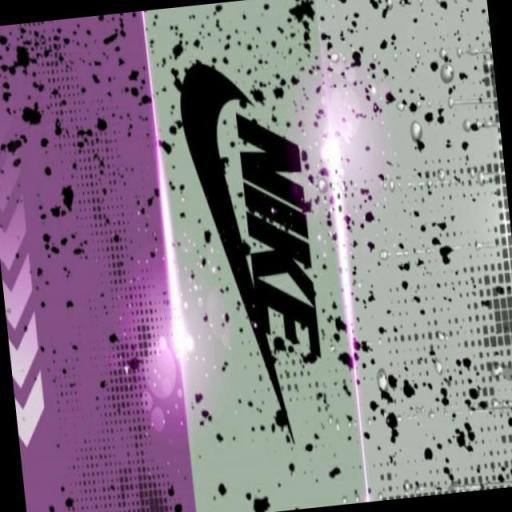Nike: (172, 48, 294, 456), (231, 102, 325, 376)
